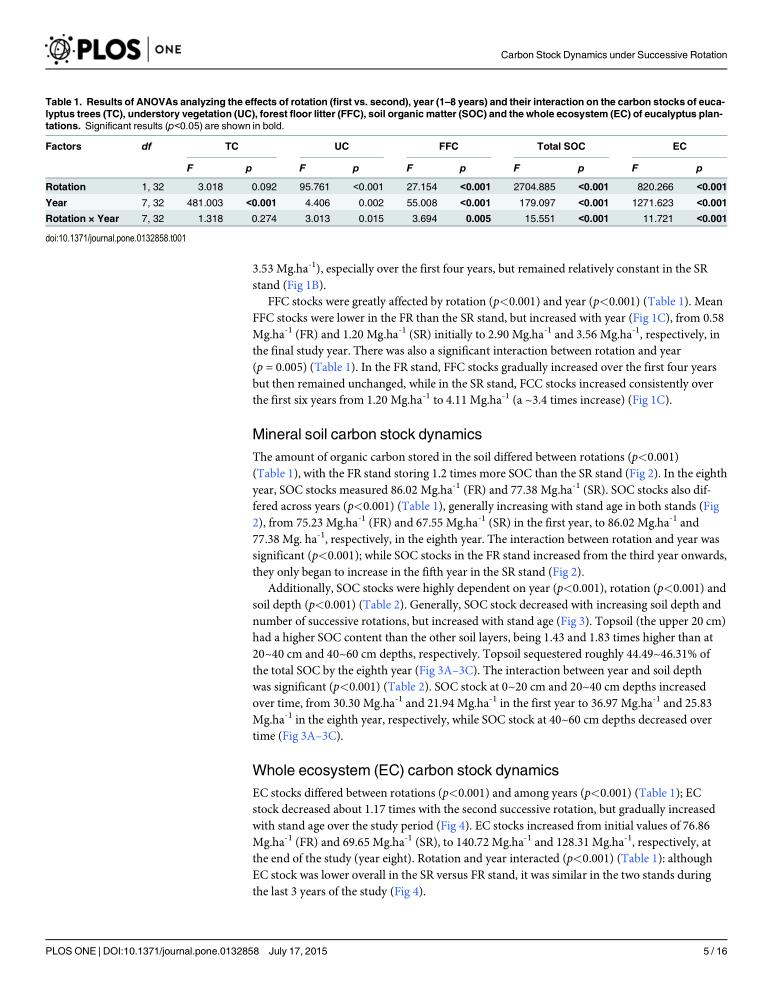table: (45, 139, 726, 224)
